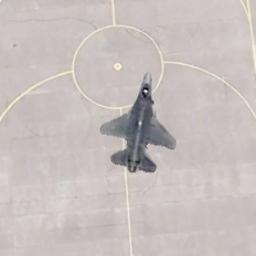Airplane: (99, 71, 176, 173)
